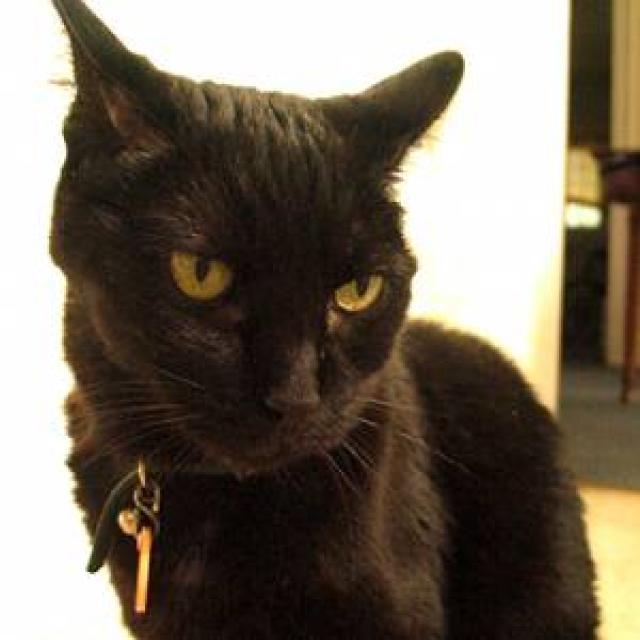Bombay: (39, 2, 466, 491)
